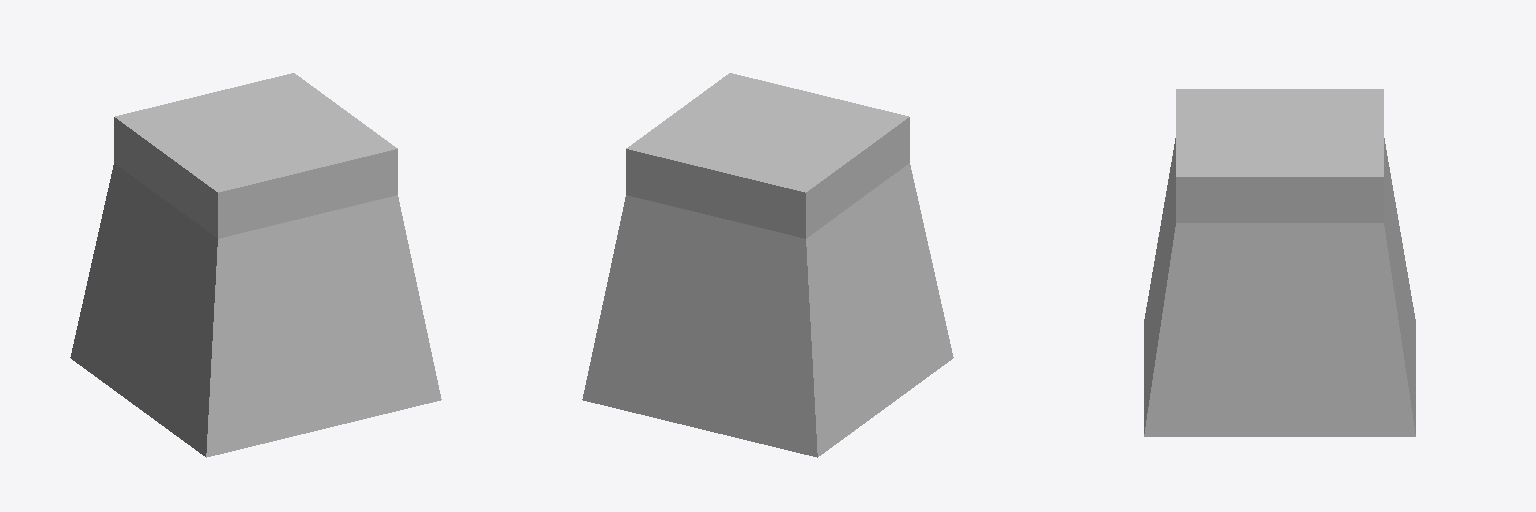
Rendered from ground_friendly.obj.
3 renders of one model, left to right at view 1: azimuth 30°, elevation 25°; view 2: azimuth 150°, elevation 25°; view 3: azimuth 270°, elevation 25°, orthographic.
Visible parts, largest first — view 1: Mesh1 Model; view 2: Mesh1 Model; view 3: Mesh1 Model.
Boxes of the visible parts, x1=… form: Mesh1 Model: x1=70, y1=73, x2=441, y2=457; Mesh1 Model: x1=582, y1=73, x2=953, y2=457; Mesh1 Model: x1=1144, y1=89, x2=1415, y2=436.
Bounding box in the file's own units: 3 × 3 × 3.